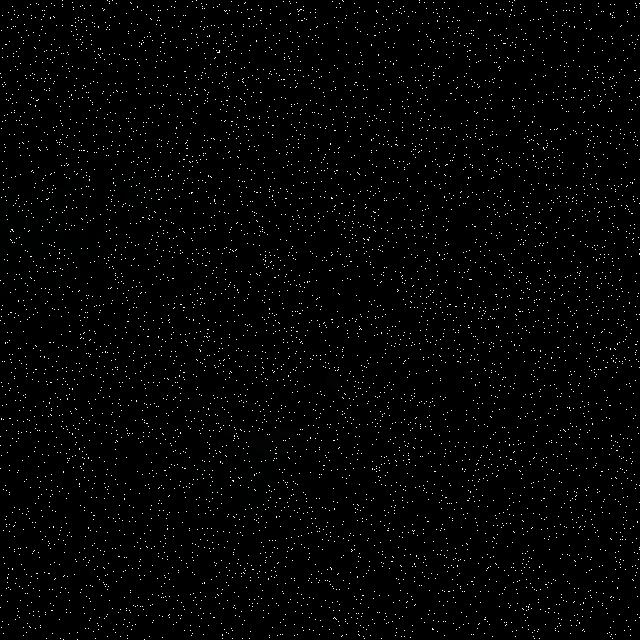adapter: (173, 307, 363, 596)
